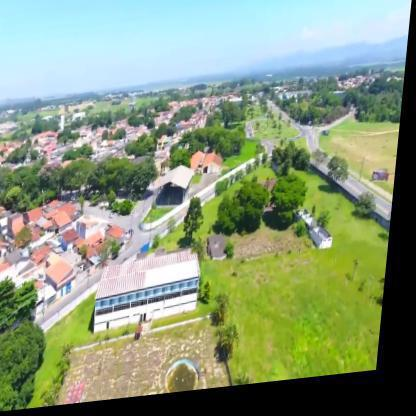agua: (172, 362, 208, 398)
